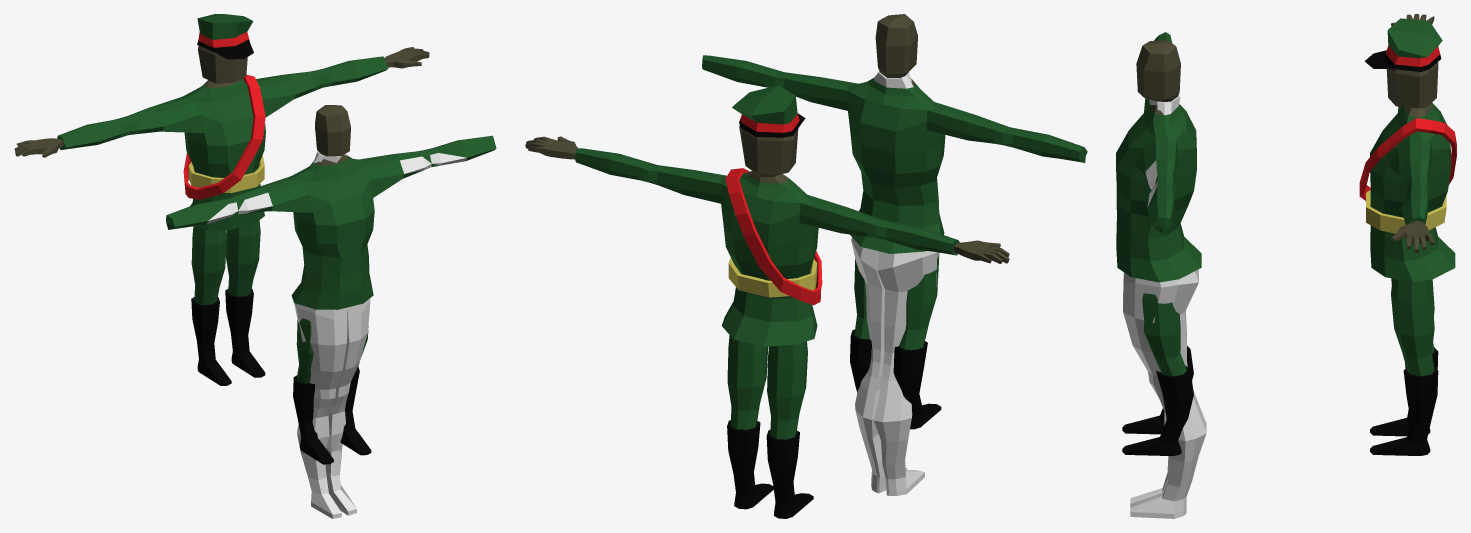
The model's file is Infantaria.fbx.
The picture shows the model from 3 angles, left to right: view 1: azimuth 30°, elevation 25°; view 2: azimuth 150°, elevation 25°; view 3: azimuth 270°, elevation 25°; orthographic projection. The views are drawn at different scales.
Visible parts, largest first — view 1: Cube.005, Cube, Cube.001, Cylinder.001, Cylinder, Cylinder.002, Cube.002, Cube.004, Cylinder.003, Cube.003; view 2: Cube, Cube.005, Cube.001, Cylinder.001, Cylinder, Cylinder.002, Cube.004, Cube.002, Cylinder.003, Cube.003; view 3: Cube.005, Cube, Cube.001, Cylinder, Cylinder.003, Cube.004, Cube.002, Cube.003, Cylinder.001, Cylinder.002.
Boxes of the visible parts, bbox=[...] form: Cube.005: bbox=[166, 105, 496, 309]; Cube: bbox=[14, 46, 429, 230]; Cube.001: bbox=[207, 151, 466, 518]; Cylinder.001: bbox=[191, 226, 231, 385]; Cylinder: bbox=[225, 220, 265, 377]; Cylinder.002: bbox=[293, 318, 333, 464]; Cube.002: bbox=[183, 74, 265, 199]; Cube.004: bbox=[197, 14, 253, 59]; Cylinder.003: bbox=[340, 326, 371, 455]; Cube.003: bbox=[188, 155, 264, 193]; Cube: bbox=[525, 125, 1009, 346]; Cube.005: bbox=[702, 14, 1087, 253]; Cube.001: bbox=[851, 71, 939, 495]; Cylinder.001: bbox=[766, 341, 813, 518]; Cylinder: bbox=[727, 335, 773, 509]; Cylinder.002: bbox=[893, 255, 941, 429]; Cube.004: bbox=[732, 85, 805, 137]; Cube.002: bbox=[725, 168, 822, 304]; Cylinder.003: bbox=[850, 259, 871, 392]; Cube.003: bbox=[728, 257, 817, 297]; Cube.005: bbox=[1116, 32, 1201, 282]; Cube: bbox=[1370, 14, 1455, 282]; Cube.001: bbox=[1123, 95, 1206, 518]; Cylinder: bbox=[1370, 278, 1438, 455]; Cylinder.003: bbox=[1122, 293, 1193, 455]; Cube.004: bbox=[1364, 18, 1442, 71]; Cube.002: bbox=[1359, 118, 1456, 200]; Cube.003: bbox=[1366, 190, 1446, 233]; Cylinder.001: bbox=[1370, 278, 1438, 436]; Cylinder.002: bbox=[1122, 346, 1193, 434].
Bounding box in the file's own units: 1075 × 1027 × 657.
